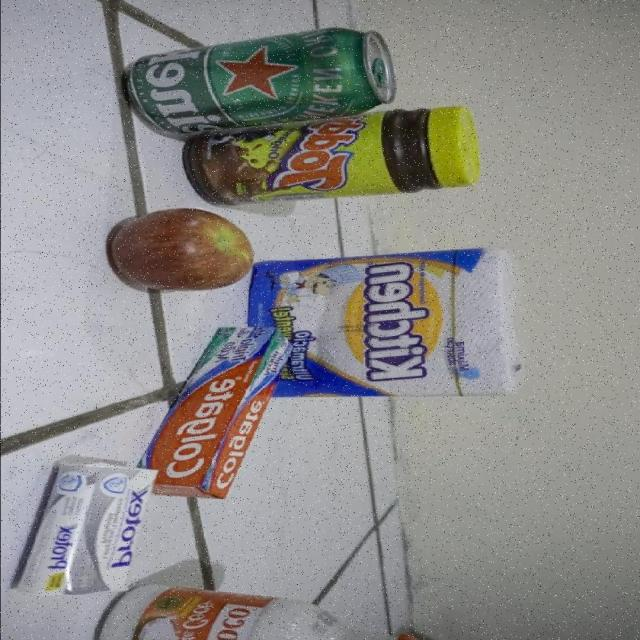Apple: (110, 207, 257, 291)
BeerCan: (127, 27, 396, 124)
ChocolatePowder: (187, 126, 479, 199)
CoconutMilk: (101, 594, 422, 640)
Napkin: (305, 247, 523, 395)
Soap: (21, 458, 159, 594)
Toothpaste: (173, 327, 292, 500)
